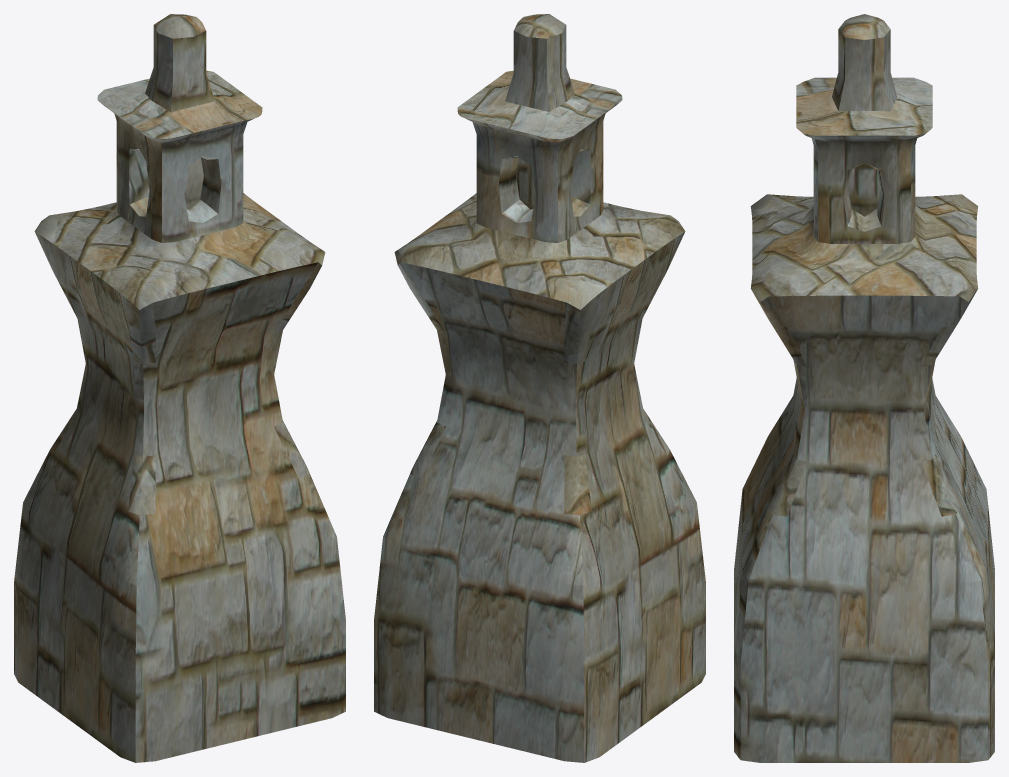
File: sages_hero.dae
The picture shows the model from 3 angles, left to right: view 1: azimuth 30°, elevation 25°; view 2: azimuth 150°, elevation 25°; view 3: azimuth 270°, elevation 25°; orthographic projection. The views are drawn at different scales.
Parts seen in each view (by area): view 1: Box; view 2: Box; view 3: Box.
Boxes of the visible parts, x1,y1,x2,y2 form: Box: (14,14,345,762); Box: (374,14,705,762); Box: (734,14,994,762).
Size of the model in its own units: 0.5 by 1.46 by 0.5.
